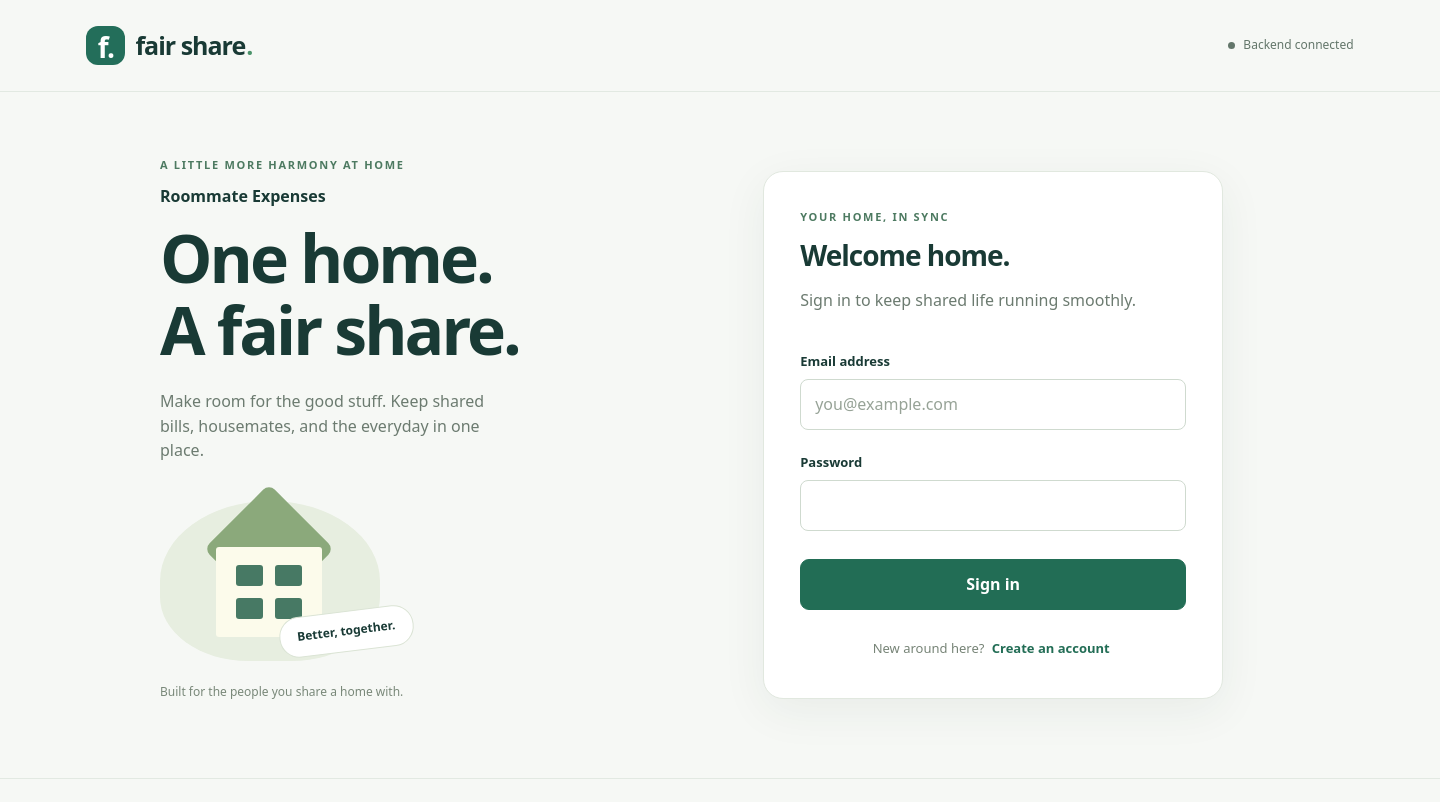
Test: account screens › rejects a mismatched confirmation without creating an account
Click the button "Create an account" at (1051, 648), box [988,634,1114,662]
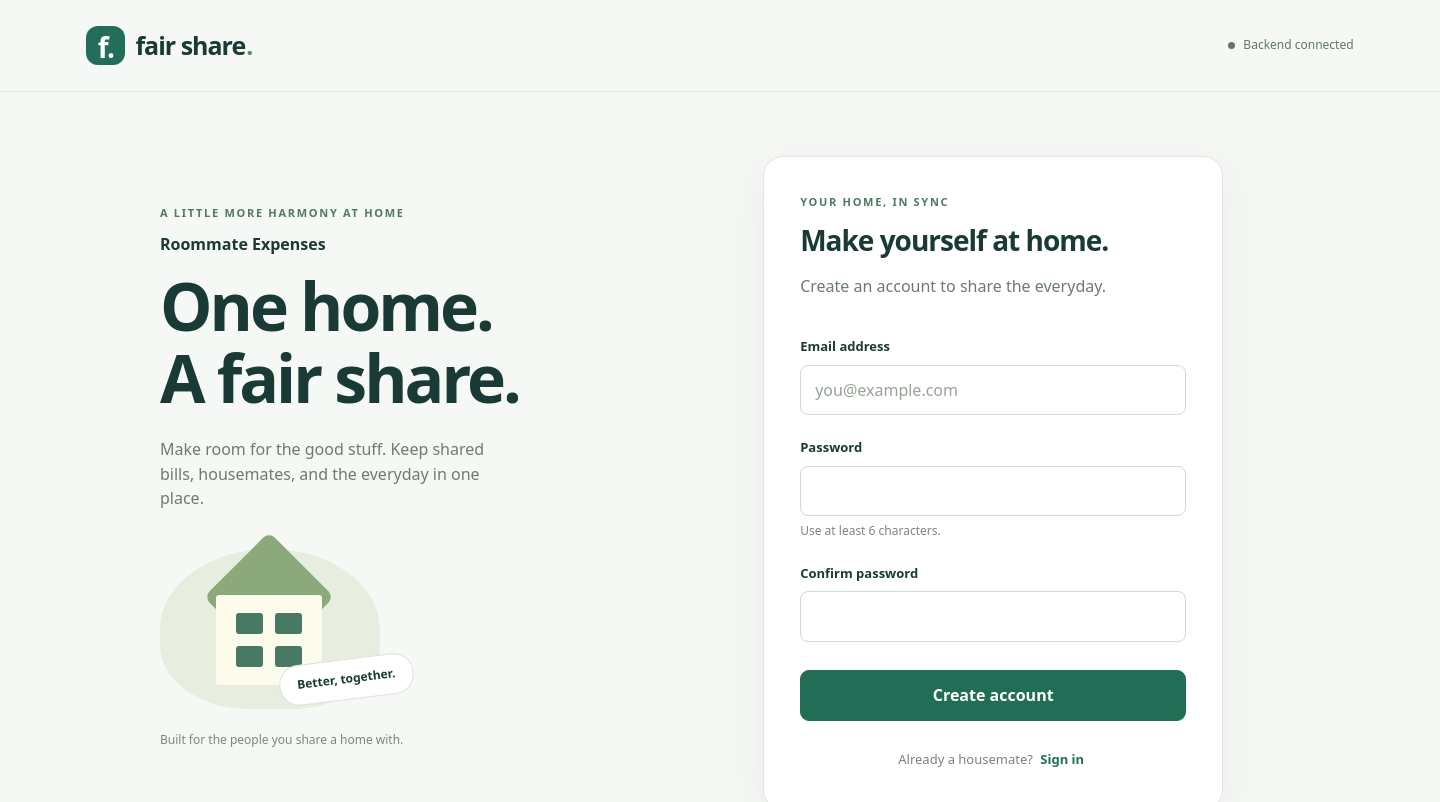
Type "alice@example.com" into the field labelled "Email address" at (993, 390), box [800,365,1186,415]
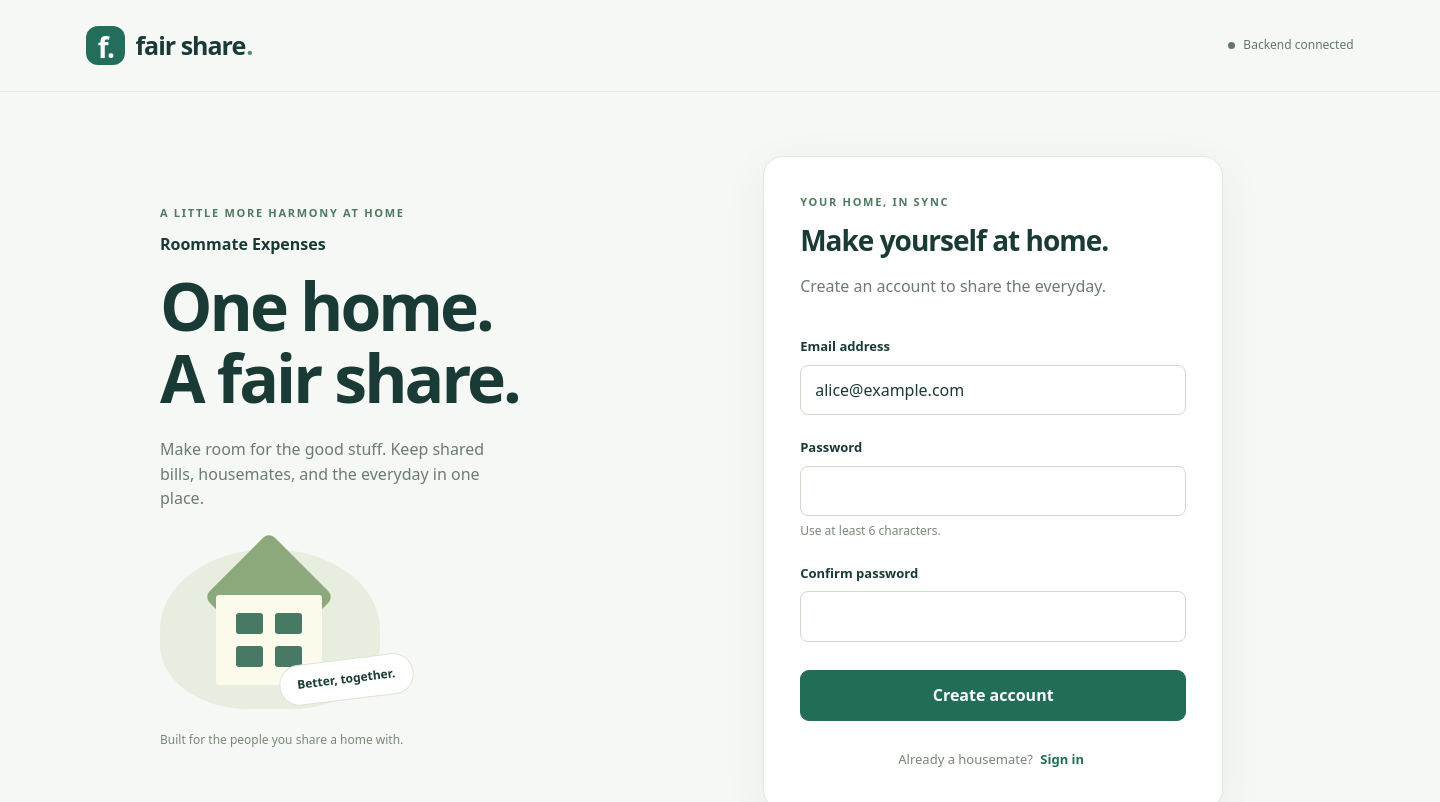
Type "correct-password" into the password field labelled "Password" at (993, 491), box [800,466,1186,516]
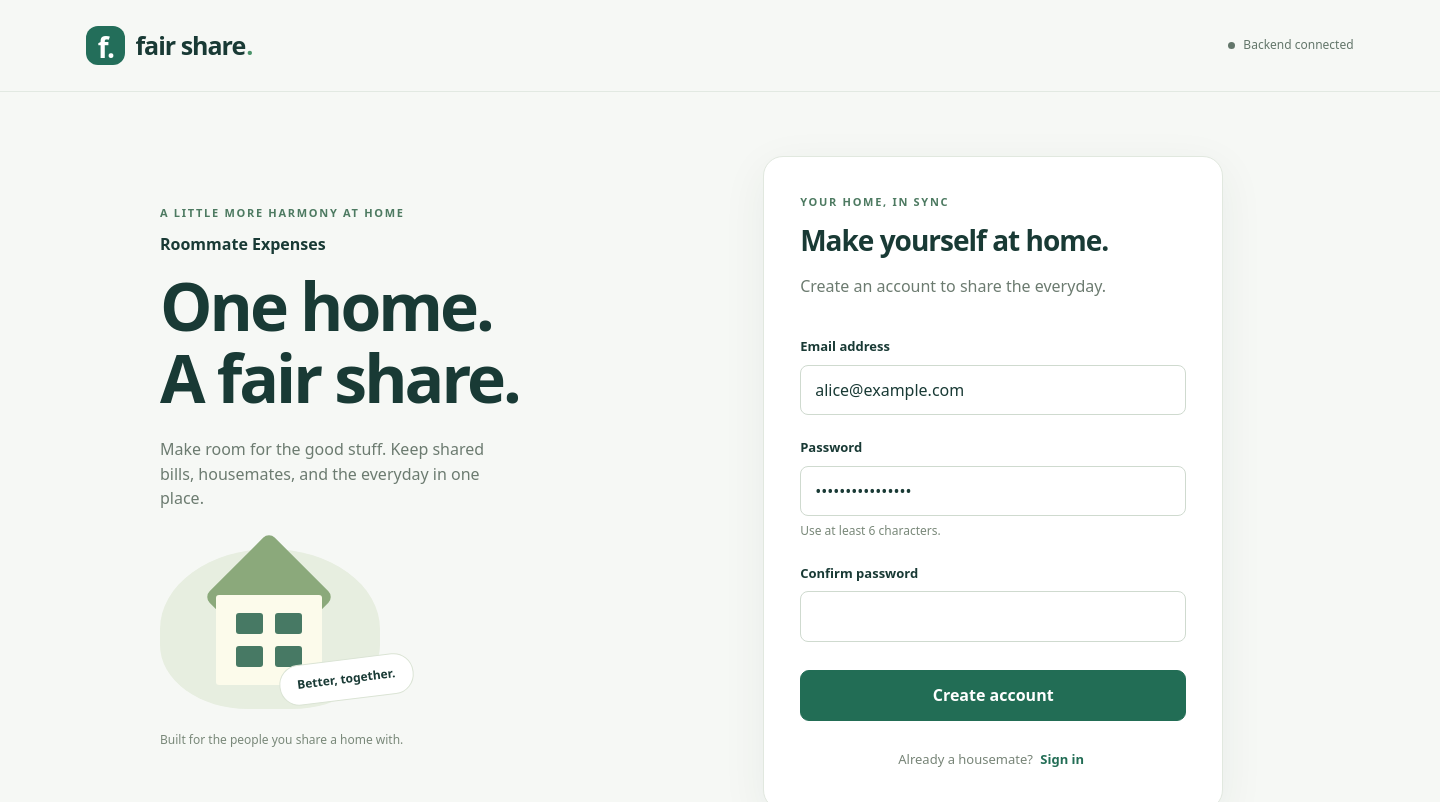
Type "different" into the password field labelled "Confirm password" at (993, 616), box [800,591,1186,642]
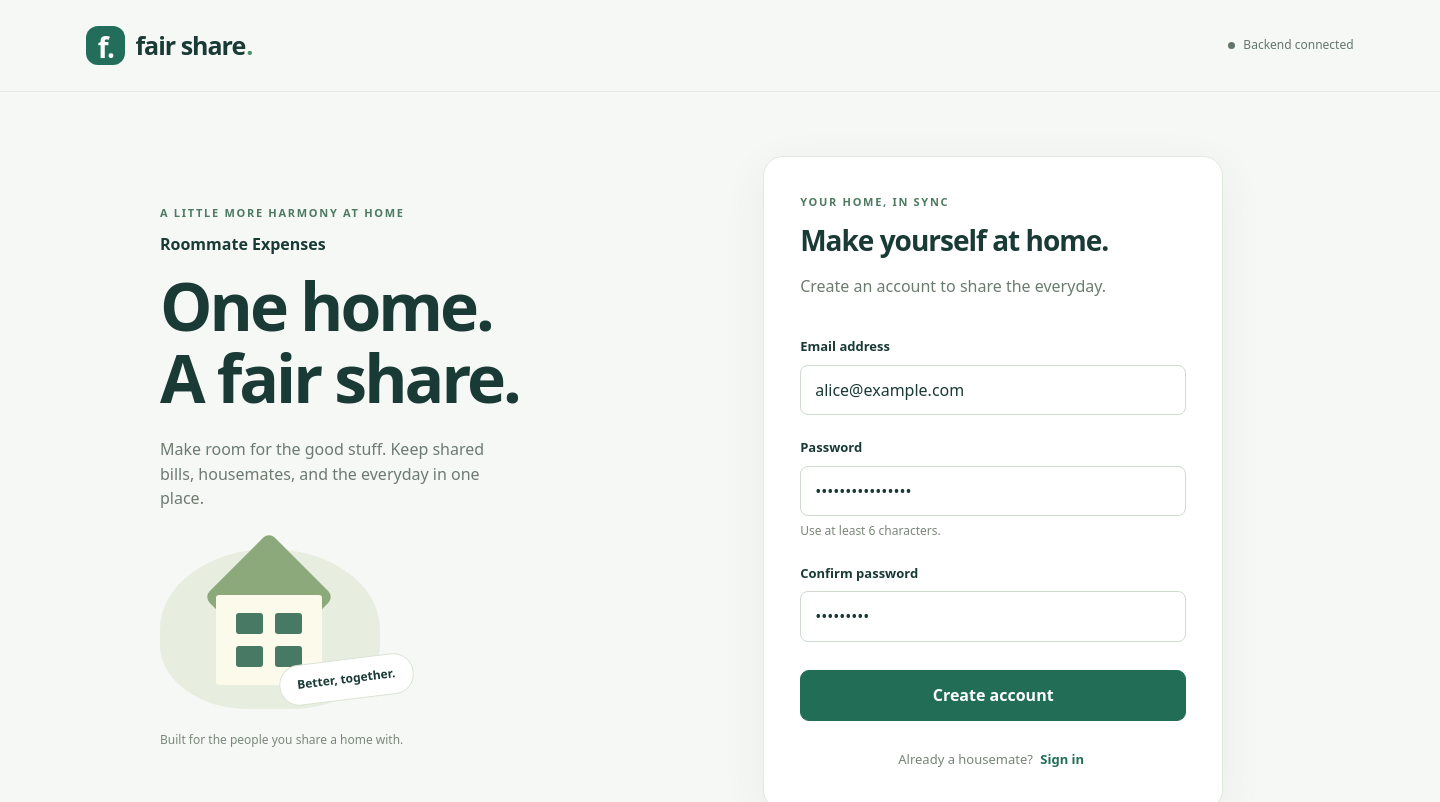
Click the button "Create account" at (993, 695), box [800,670,1186,721]
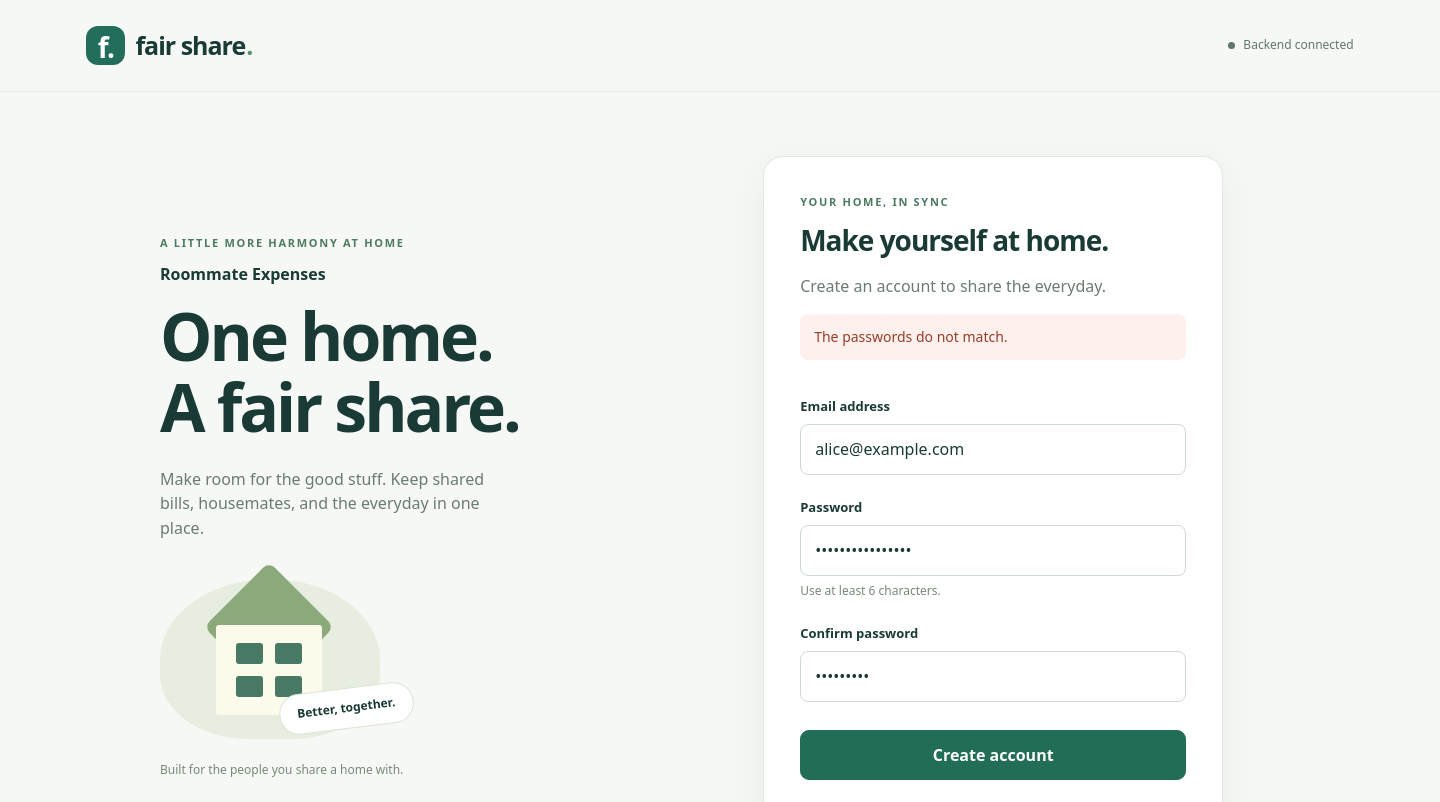
Result: the message "The passwords do not match." is shown at [800,314,1186,360]
